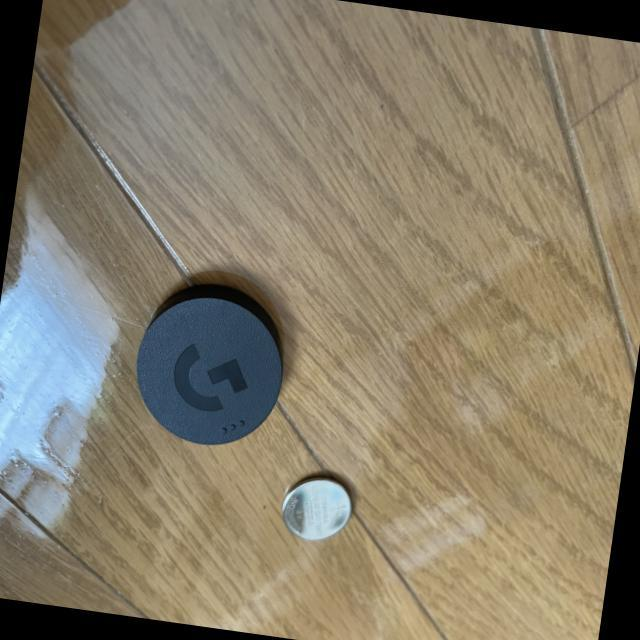COIN: (276, 471, 356, 544)
